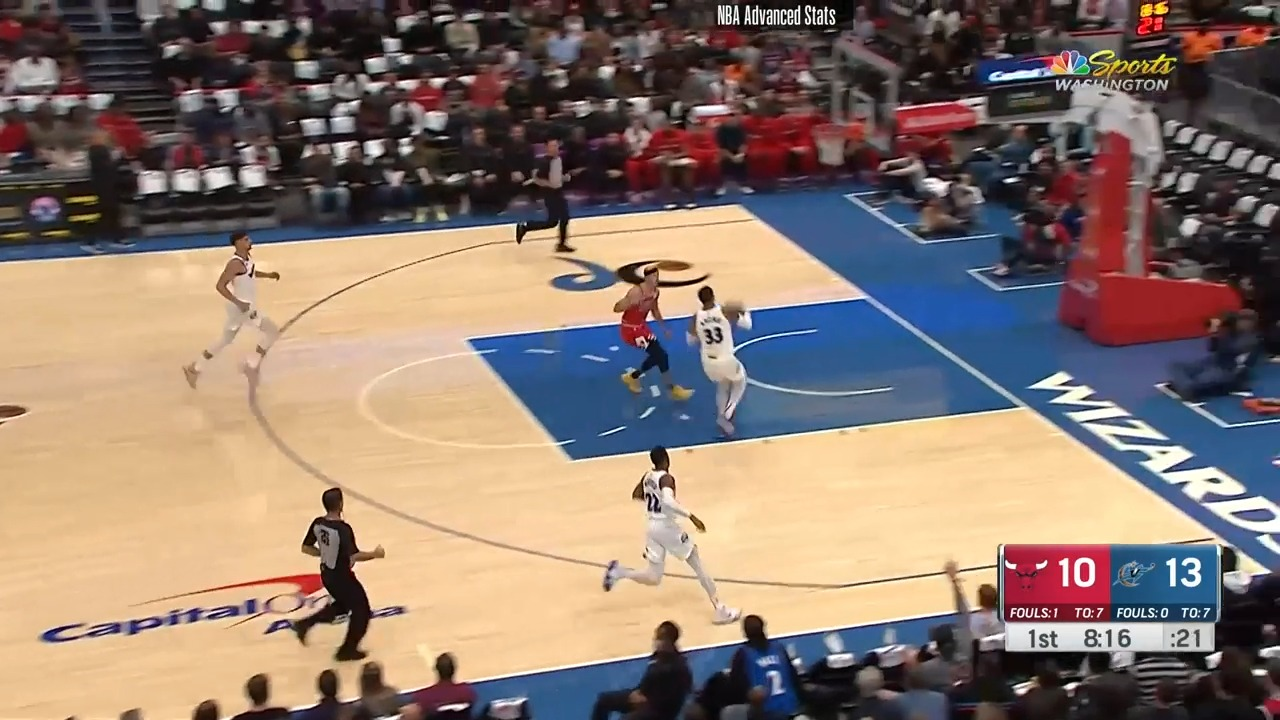net: (807, 115, 874, 174)
player: (599, 447, 742, 630), (186, 229, 293, 395), (602, 261, 688, 409), (686, 282, 752, 438)
referee: (286, 487, 383, 671), (517, 134, 586, 259)
